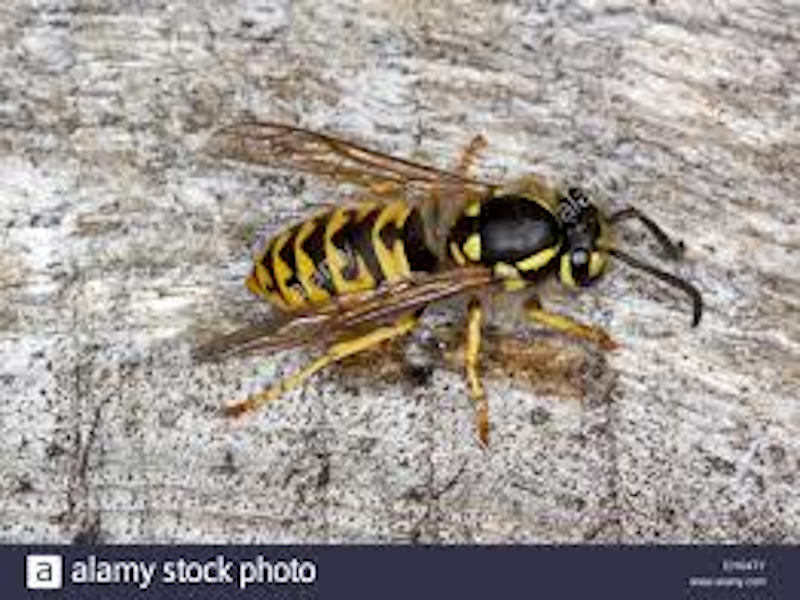chax: (168, 50, 754, 452)
